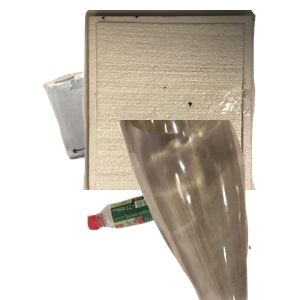glass: (115, 120, 300, 300)
paper: (40, 35, 249, 187)
plastic: (84, 191, 242, 300)
trash: (80, 10, 300, 190)
